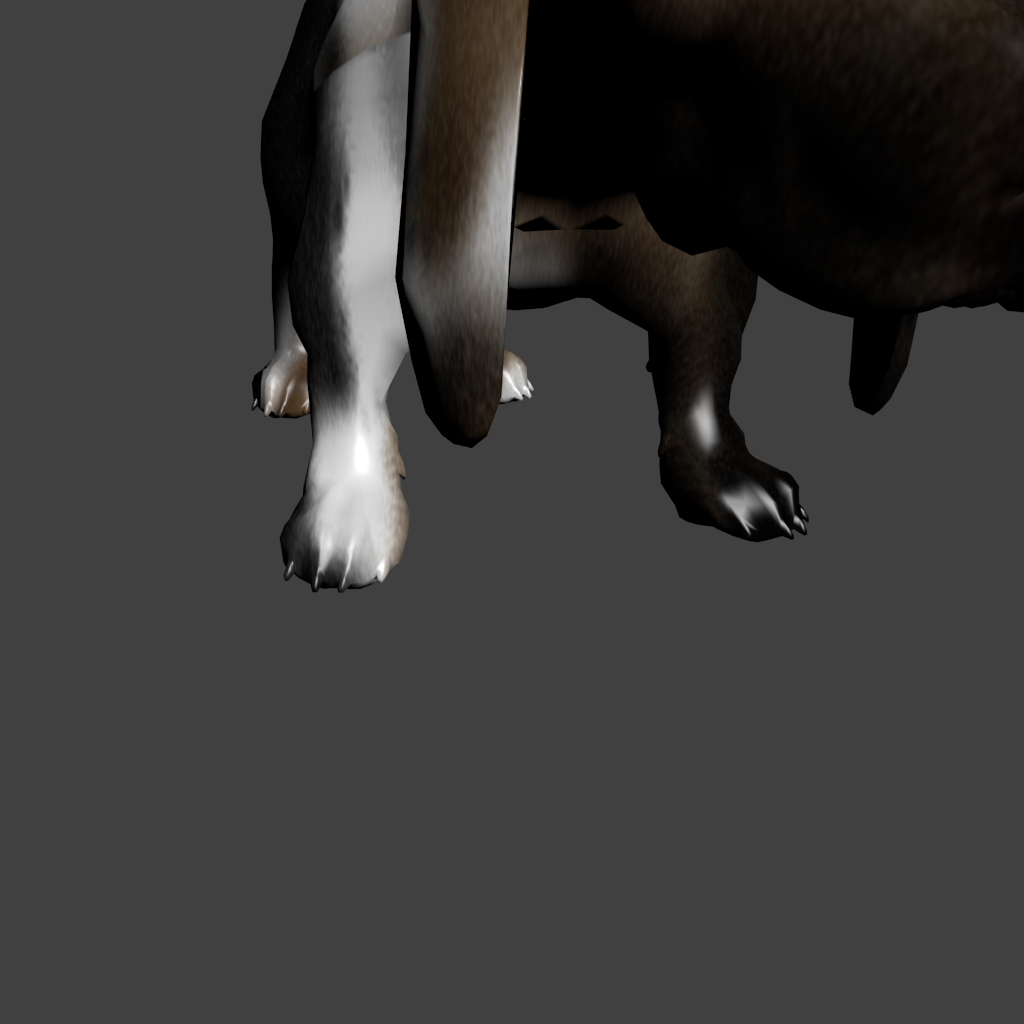Dog: (251, 0, 773, 593)
